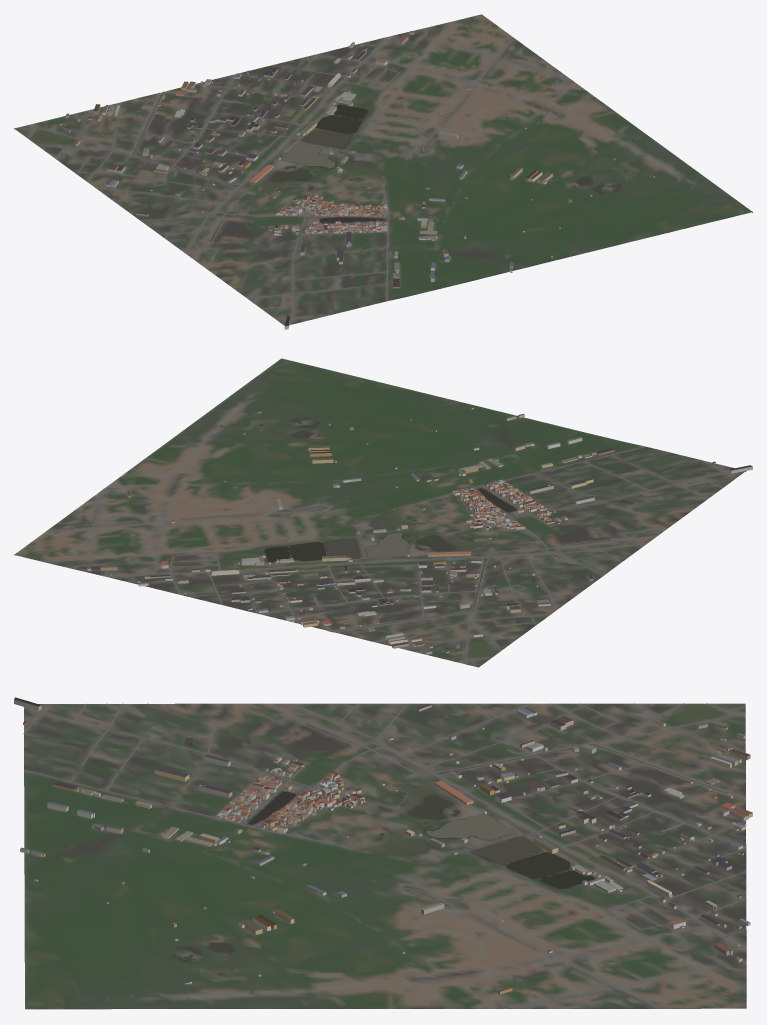
3 renders of one model, top to bottom at view 1: azimuth 30°, elevation 25°; view 2: azimuth 150°, elevation 25°; view 3: azimuth 270°, elevation 25°, orthographic. The views are drawn at different scales.
Parts seen in each view (by area): view 1: ground, buildings, roads, water; view 2: ground, buildings, roads, water; view 3: ground, buildings, roads, water.
Boxes of the visible parts, box(x1,y1,x2,y2) form: ground: box(14, 14, 752, 325); buildings: box(59, 31, 654, 329); roads: box(18, 35, 573, 324); water: box(33, 92, 634, 268); ground: box(14, 358, 746, 667); buildings: box(87, 407, 752, 654); roads: box(46, 446, 736, 666); water: box(260, 417, 633, 657); ground: box(24, 703, 746, 1009); buildings: box(14, 697, 752, 994); roads: box(23, 703, 746, 1008); water: box(171, 708, 745, 975).
Size of the model in its own units: 1412 by 13.86 by 1435.
